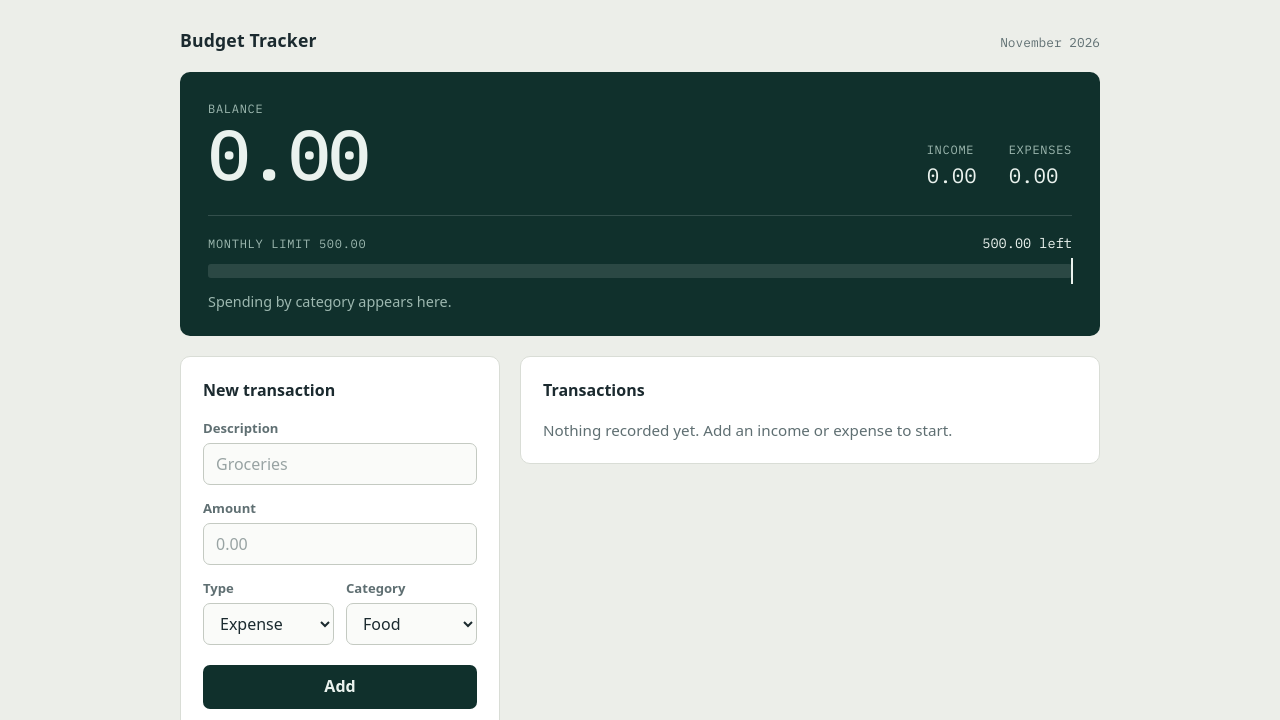
App › shows an error for an invalid amount
Type "Bad" into the field labelled "Description".
click(340, 464); type("Bad")  # box [203,443,477,485]
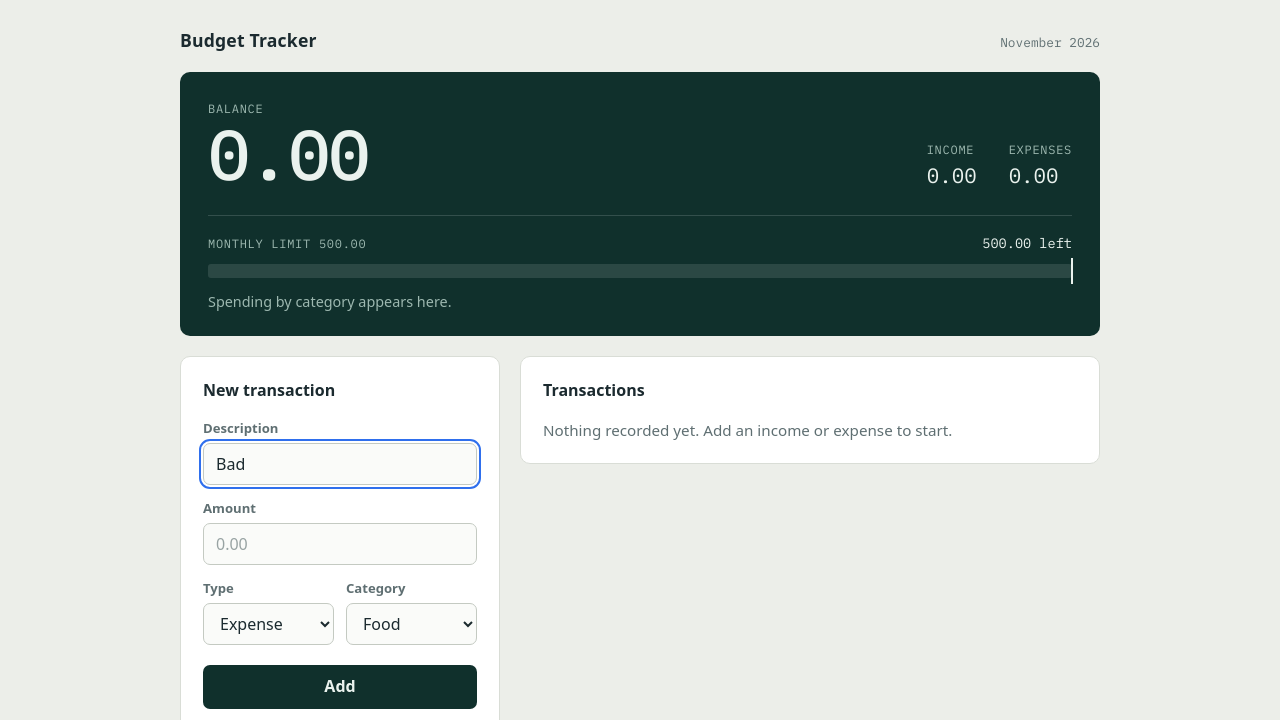
Type "-5" into the field labelled "Amount".
click(340, 544); type("-5")  # box [203,523,477,565]
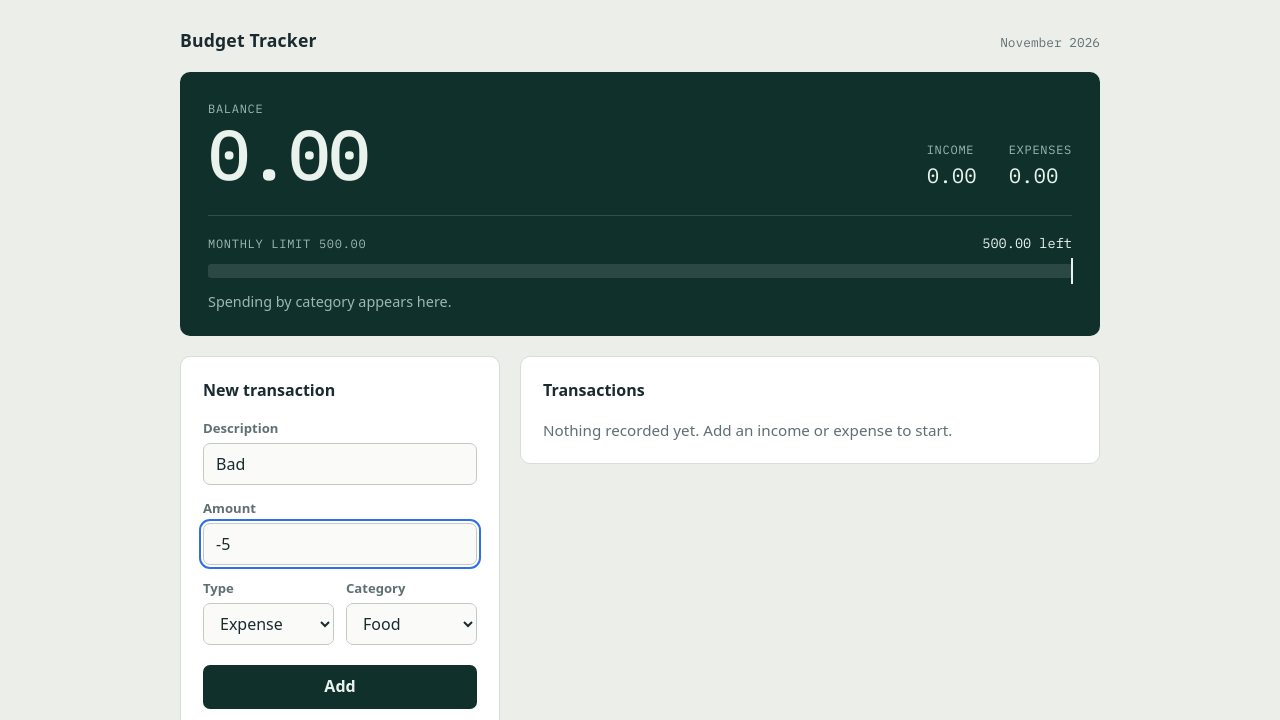
Select "Expense" in the dropdown labelled "Type" at (268, 624), box [203,603,334,645]
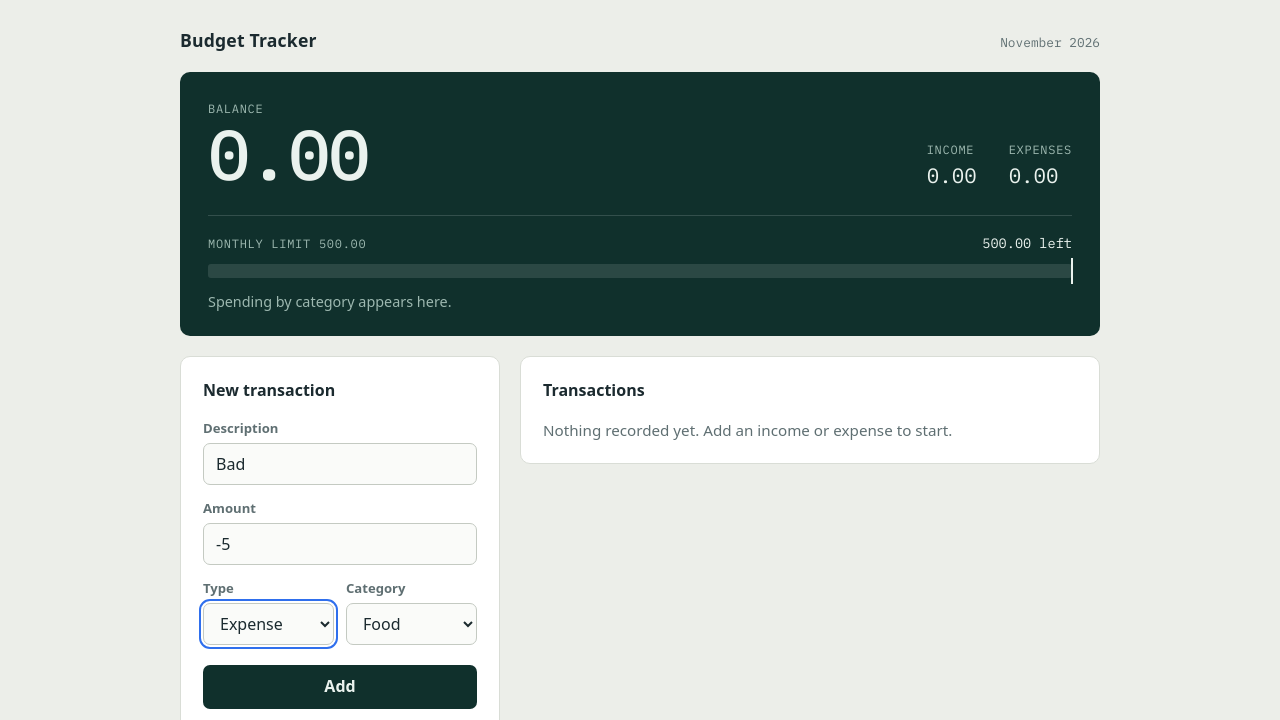
Click the button "Add".
click(340, 687)  # box [203,665,477,709]
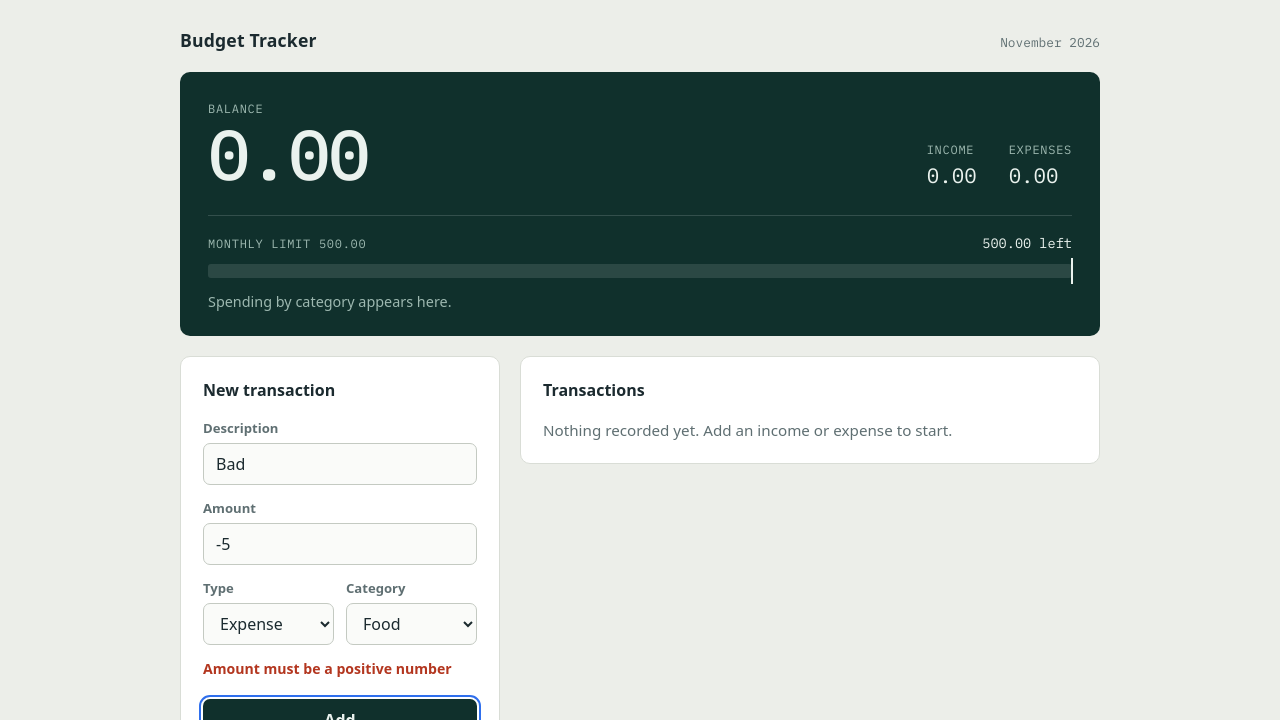
Expected: the message reads "Amount must be a positive number", [203,659,452,678]
